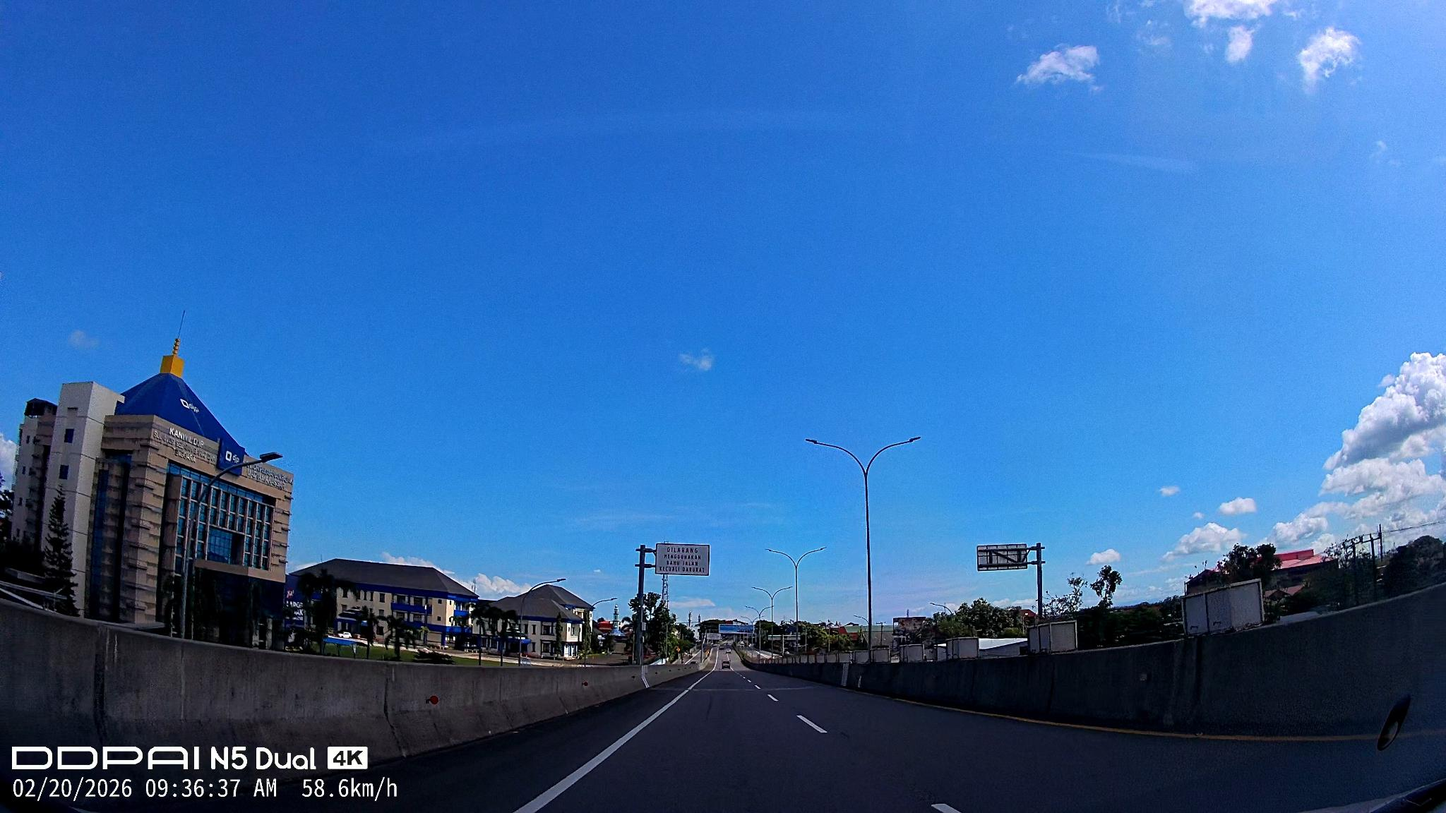rambu_teks: (655, 542, 710, 577)
